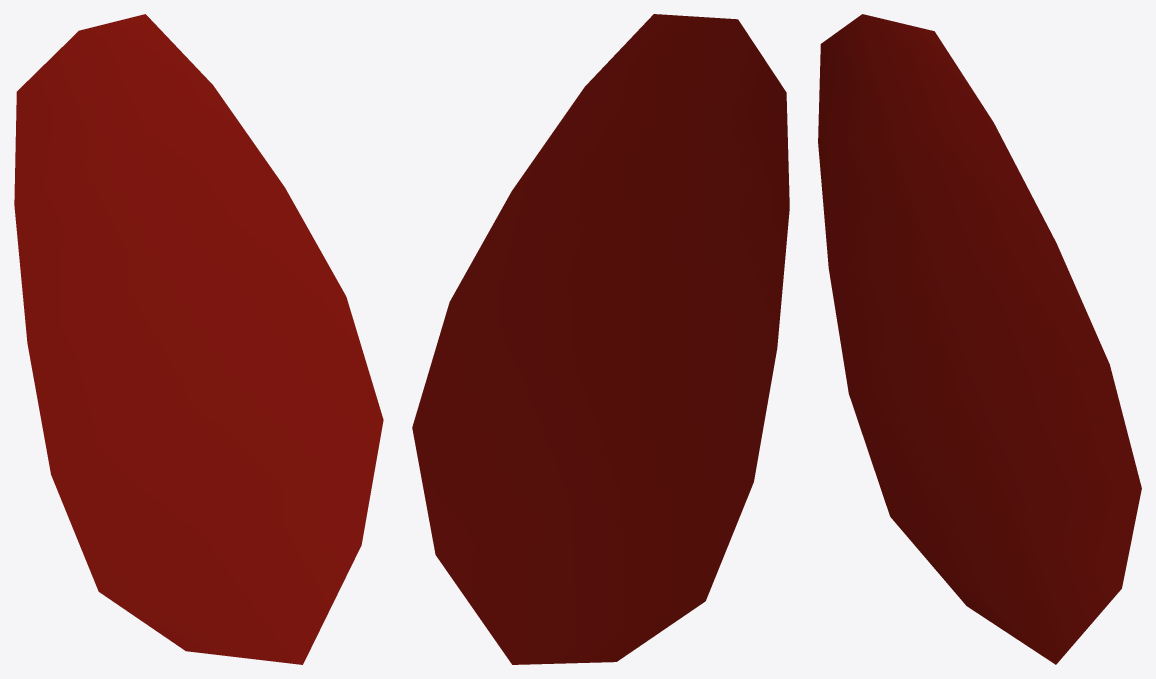
File: ara_feather_flight_tertiary_021.obj
The picture shows the model from 3 angles, left to right: view 1: azimuth 30°, elevation 25°; view 2: azimuth 150°, elevation 25°; view 3: azimuth 330°, elevation 25°; orthographic projection. The views are drawn at different scales.
Parts seen in each view (by area): view 1: feather_flight_tertiary_021; view 2: feather_flight_tertiary_021; view 3: feather_flight_tertiary_021.
Boxes of the visible parts, x1=… form: feather_flight_tertiary_021: x1=14, y1=14, x2=383, y2=664; feather_flight_tertiary_021: x1=412, y1=14, x2=789, y2=664; feather_flight_tertiary_021: x1=818, y1=14, x2=1141, y2=664.
Bounding box in the file's own units: 0.0201 × 0.0358 × 0.000886.
